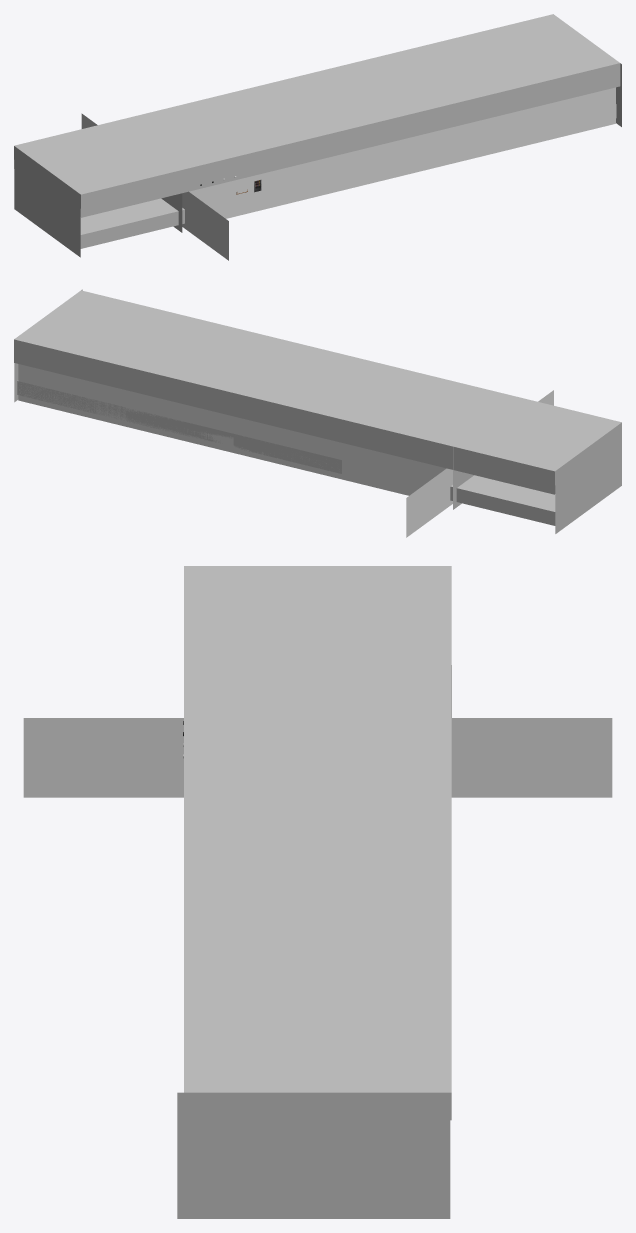
Rendered from estacion.fbx.
3 views of the same model, one above another, from view 1: azimuth 30°, elevation 25°; view 2: azimuth 150°, elevation 25°; view 3: azimuth 270°, elevation 25° (orthographic). The views are drawn at different scales.
Parts seen in each view (by area): view 1: Cube.038, Cube.050, Cube.029, Cube.037, Cube.028, Cube.052, Cube.023, Cube.033, Cube.034, Cube.048, Cube.036, Cube.049 (+8 smaller); view 2: Cube.052, Cube.036, Cube.049, Cube.048, Cube.051, Cube.038, Cube.029, Cube.037, Cube.028, Cube.050, Cube.046, Cube.054 (+10 smaller); view 3: Plane.007, Plane.006, Cube.051, Cube.048, Cube.036, Cube.049, Cube.052, Cube.028, Cube.029, Cube.037, Cube.050, Cube.038 (+2 smaller).
Part boxes in pixels (bbox=[...]): Cube.038: bbox=[47, 144, 188, 217]; Cube.050: bbox=[479, 38, 620, 112]; Cube.029: bbox=[263, 91, 404, 164]; Cube.037: bbox=[371, 65, 512, 138]; Cube.028: bbox=[155, 117, 296, 191]; Cube.052: bbox=[14, 119, 154, 177]; Cube.023: bbox=[293, 140, 400, 202]; Cube.033: bbox=[401, 113, 508, 175]; Cube.034: bbox=[508, 87, 615, 149]; Cube.048: bbox=[122, 93, 262, 143]; Cube.036: bbox=[230, 67, 370, 117]; Cube.049: bbox=[338, 40, 478, 90]; Cube.052: bbox=[446, 420, 588, 494]; Cube.036: bbox=[230, 367, 371, 441]; Cube.049: bbox=[122, 341, 263, 415]; Cube.048: bbox=[338, 394, 479, 468]; Cube.051: bbox=[14, 315, 155, 388]; Cube.038: bbox=[480, 396, 621, 454]; Cube.029: bbox=[264, 343, 405, 393]; Cube.037: bbox=[156, 316, 296, 367]; Cube.028: bbox=[372, 369, 512, 420]; Cube.050: bbox=[48, 290, 188, 341]; Cube.046: bbox=[18, 364, 126, 426]; Cube.054: bbox=[450, 475, 588, 526]; Plane.007: bbox=[313, 1092, 450, 1218]; Plane.006: bbox=[177, 1092, 313, 1218]; Cube.051: bbox=[317, 987, 451, 1120]; Cube.048: bbox=[317, 671, 451, 776]; Cube.036: bbox=[317, 776, 451, 881]; Cube.049: bbox=[317, 882, 451, 987]; Cube.052: bbox=[317, 566, 451, 671]; Cube.028: bbox=[184, 671, 317, 776]; Cube.029: bbox=[184, 776, 317, 881]; Cube.037: bbox=[184, 882, 317, 987]; Cube.050: bbox=[184, 987, 317, 1092]; Cube.038: bbox=[184, 566, 317, 671].
Bounding box in the file's own units: 13221 × 1480 × 6247.
